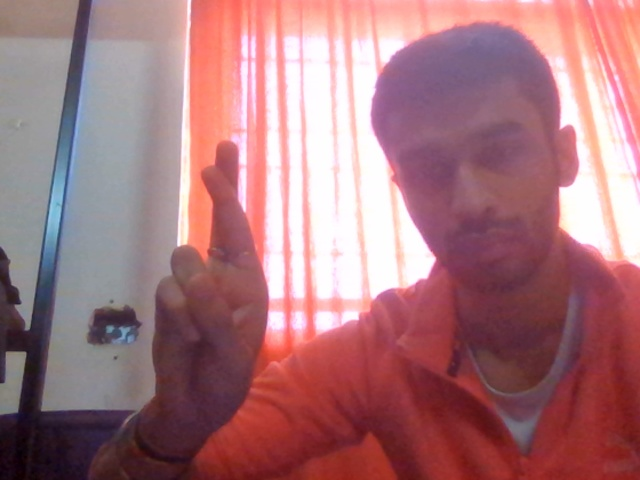R: (116, 116, 317, 437)
